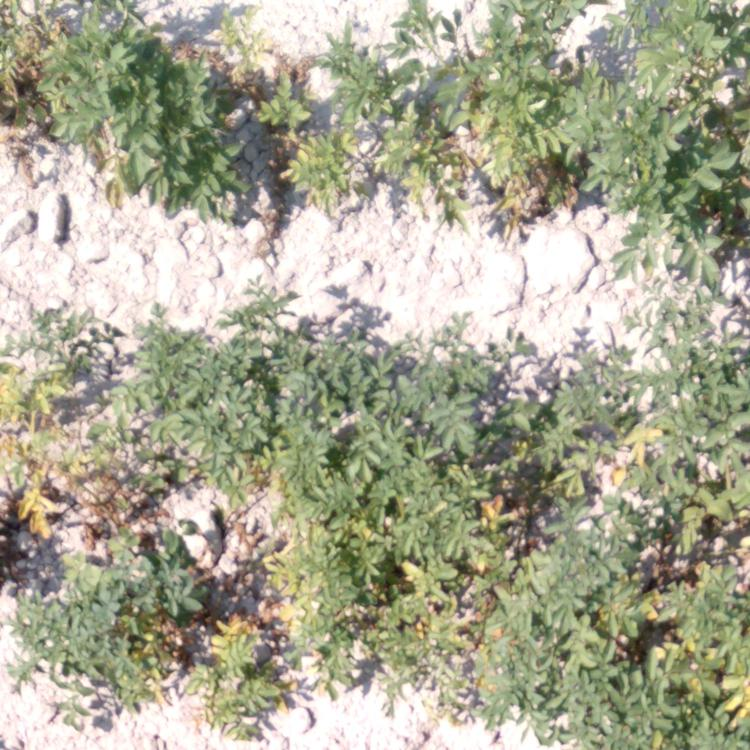healthy: (618, 1, 750, 306), (322, 312, 508, 466), (138, 299, 317, 436), (107, 3, 206, 210), (5, 544, 104, 721), (565, 48, 625, 192)
stressed: (305, 465, 518, 689), (355, 1, 567, 207), (516, 553, 742, 745), (118, 545, 298, 737), (613, 314, 750, 553), (1, 319, 136, 541), (215, 11, 355, 202), (515, 339, 616, 553), (139, 439, 306, 544), (1, 5, 103, 152)
